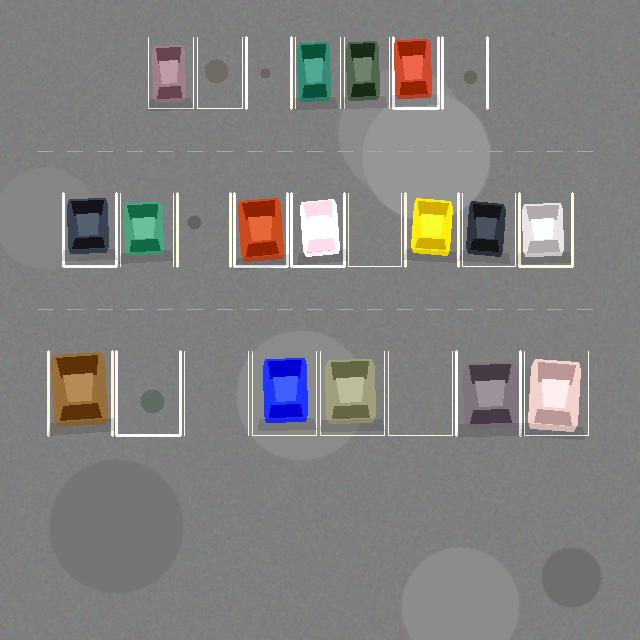space-empty: (116, 351, 180, 435), (184, 351, 248, 435), (388, 351, 452, 435), (177, 193, 230, 266), (348, 193, 401, 266), (197, 37, 242, 108), (246, 37, 291, 108), (442, 37, 487, 108)
space-occupied: (48, 351, 112, 435), (252, 351, 316, 435), (320, 351, 384, 435), (456, 351, 520, 435), (524, 351, 588, 435), (63, 193, 116, 266), (120, 193, 173, 266), (234, 193, 287, 266), (291, 193, 344, 266), (405, 193, 458, 266), (462, 193, 515, 266), (519, 193, 572, 266), (148, 37, 193, 108), (295, 37, 340, 108), (344, 37, 389, 108), (393, 37, 438, 108)
